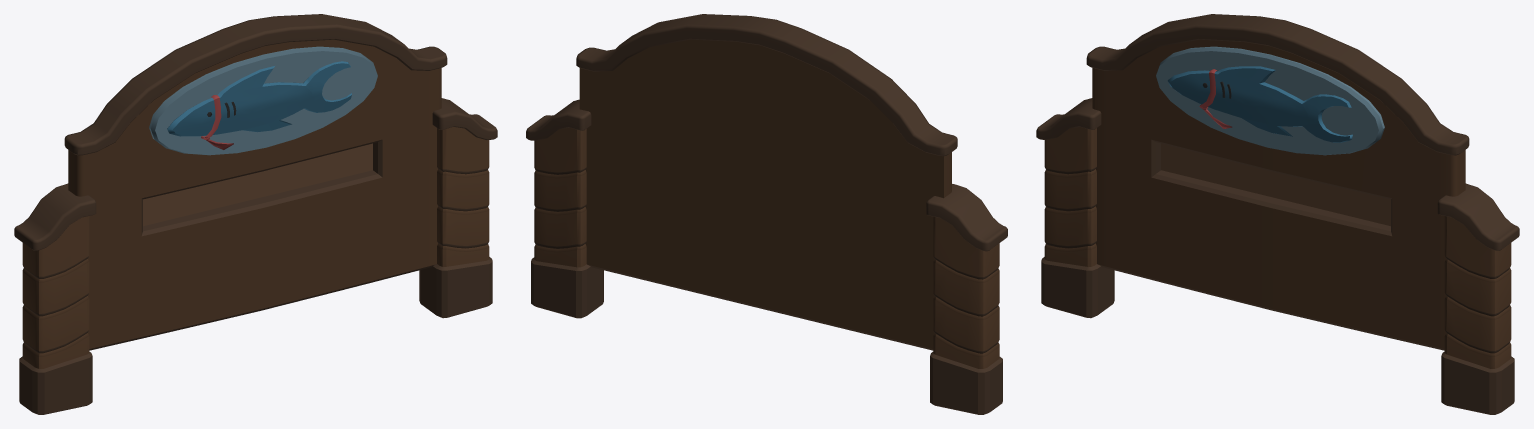
The model's file is testSign.fbx.
The picture shows the model from 3 angles, left to right: view 1: azimuth 30°, elevation 25°; view 2: azimuth 150°, elevation 25°; view 3: azimuth 330°, elevation 25°; orthographic projection.
Parts seen in each view (by area): view 1: restSign; view 2: restSign; view 3: restSign.
Boxes of the visible parts, box(x1,y1,x2,y2) form: restSign: box(14, 14, 497, 414); restSign: box(526, 14, 1007, 414); restSign: box(1036, 14, 1519, 414).
Bounding box in the file's own units: 1.58 × 1.07 × 0.1596.
